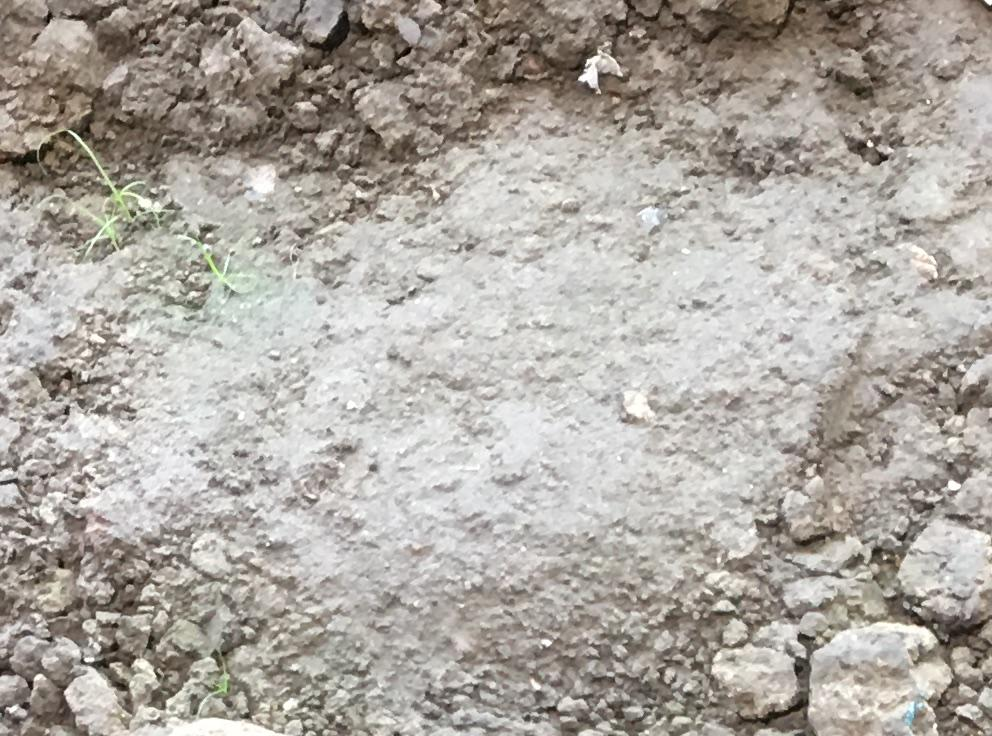block: (807, 622, 939, 736), (894, 518, 992, 626)
